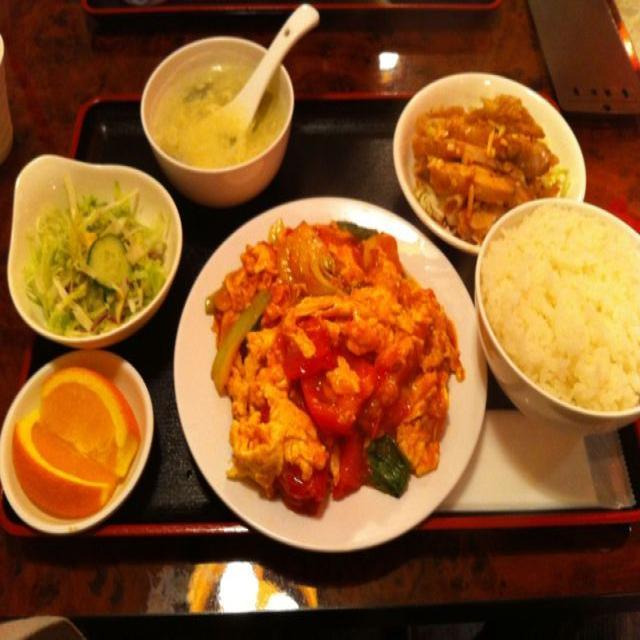Rice: (485, 198, 640, 422)
